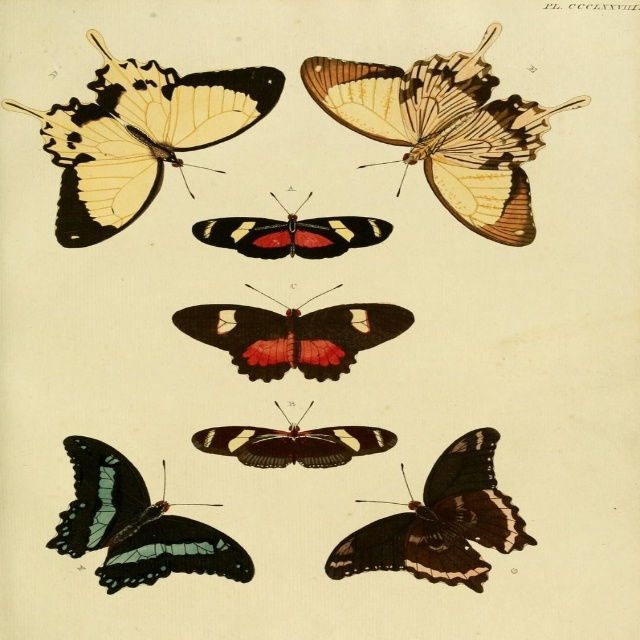Butterfly: (0, 29, 286, 250), (309, 37, 576, 234), (325, 426, 546, 591), (44, 434, 261, 596), (172, 278, 411, 383), (193, 399, 401, 471), (188, 191, 389, 258)
